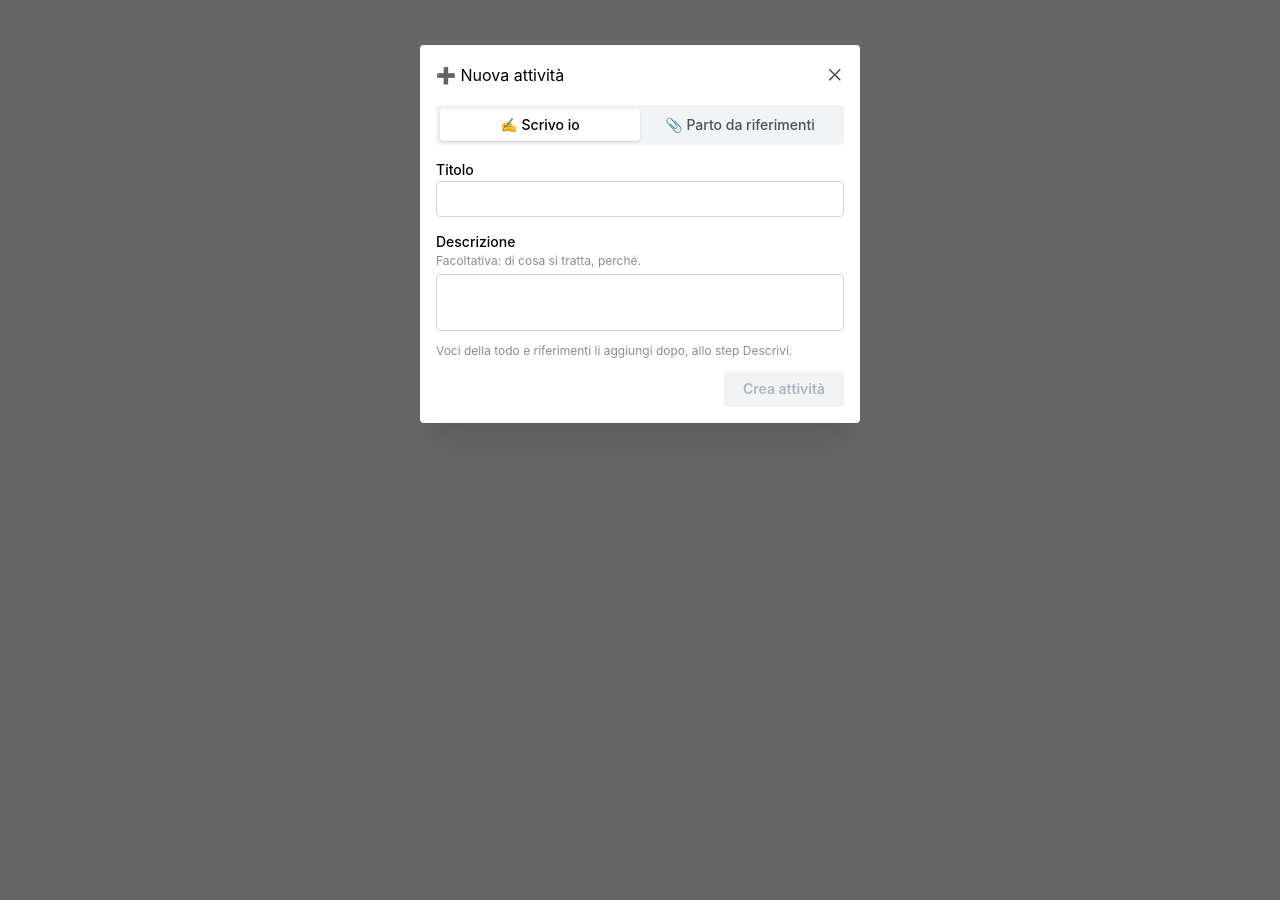
it: «➕ Nuova attività» · «📎 Parto da riferimenti» › shows when the secretary does not answer
Click the text "📎 Parto da riferimenti" at (740, 124), box left=665, top=116, right=815, bottom=133
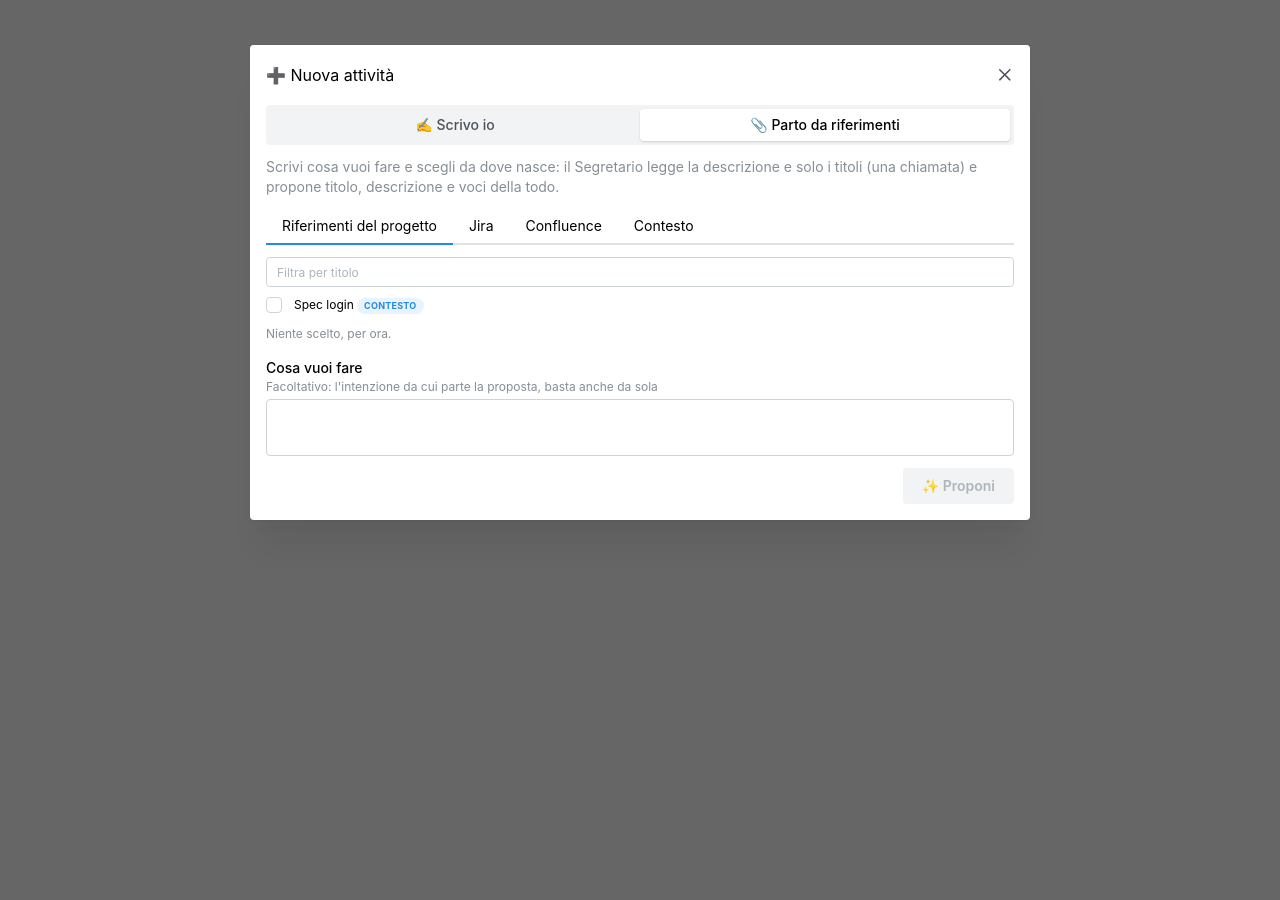
Click the checkbox labelled "Spec login contesto" at (274, 305), box left=266, top=297, right=282, bottom=313
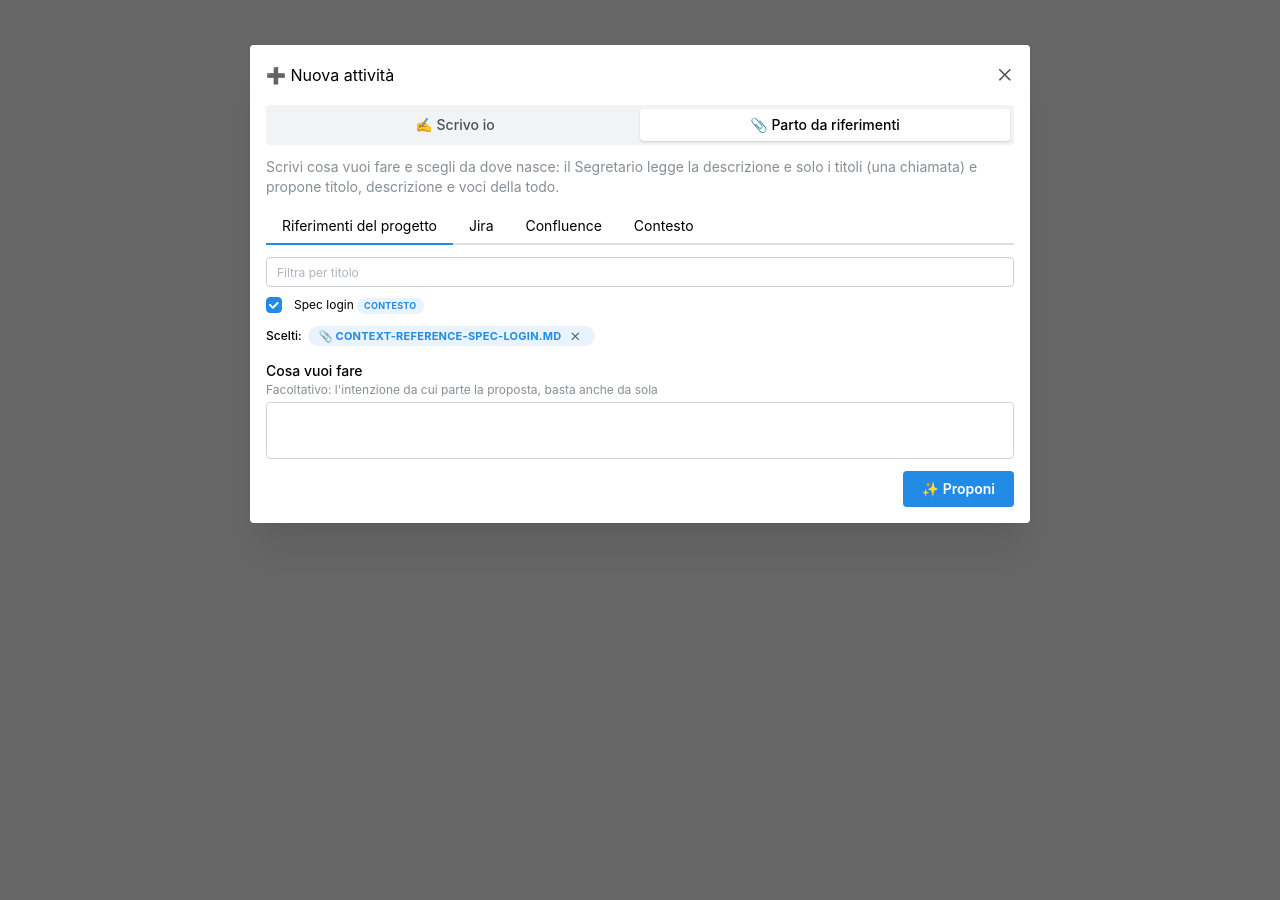
Click the button "✨ Proponi" at (958, 490), box left=903, top=472, right=1014, bottom=508
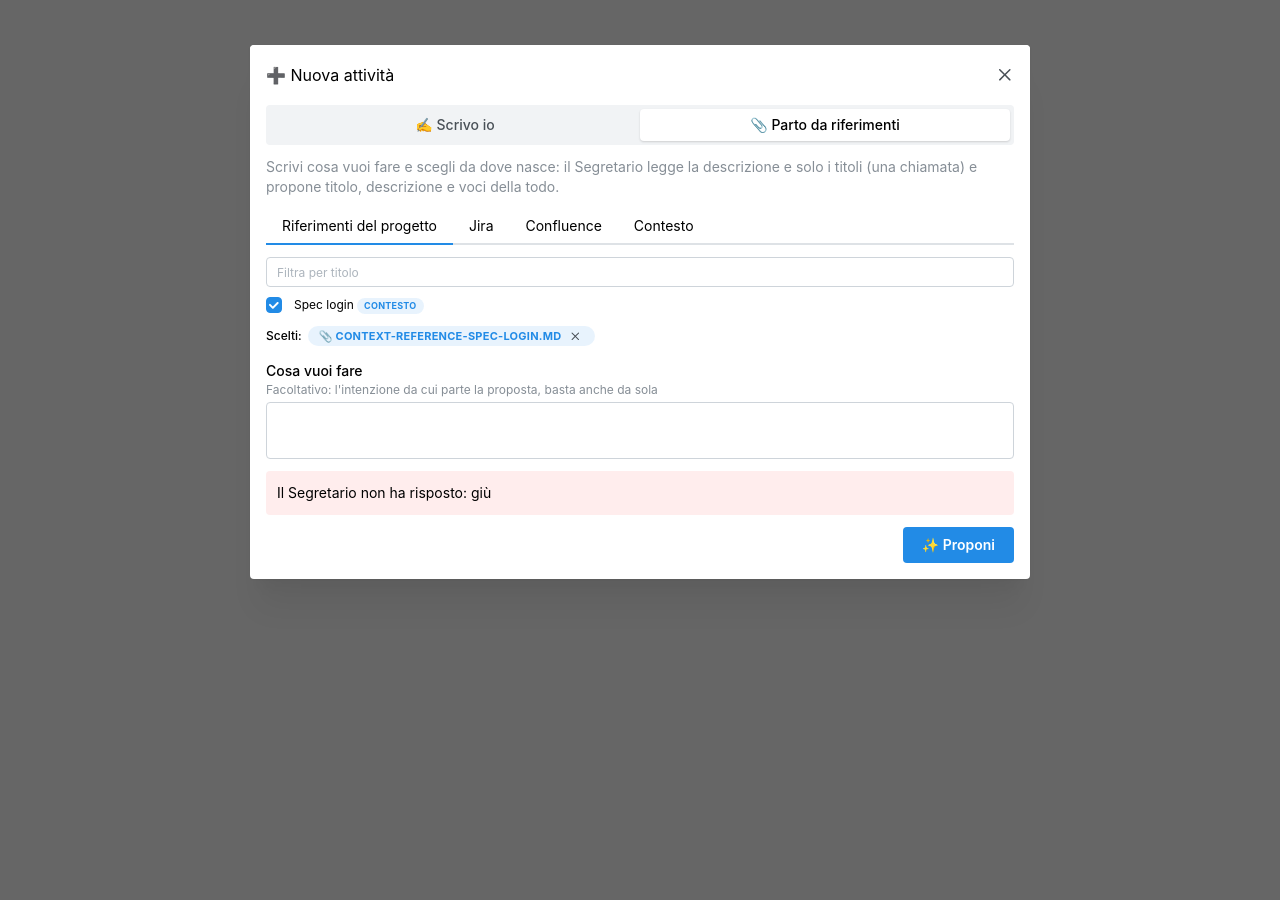
Check: the text "Il Segretario non ha risposto: giù" is shown, box left=277, top=484, right=491, bottom=502
